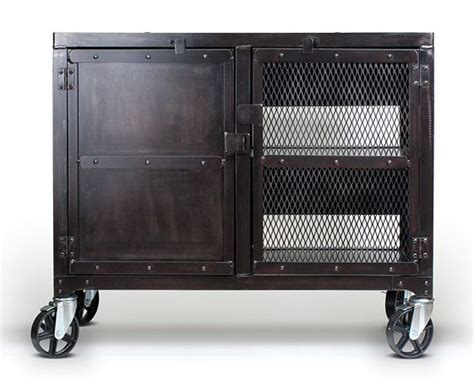Carts: (28, 30, 435, 359)
